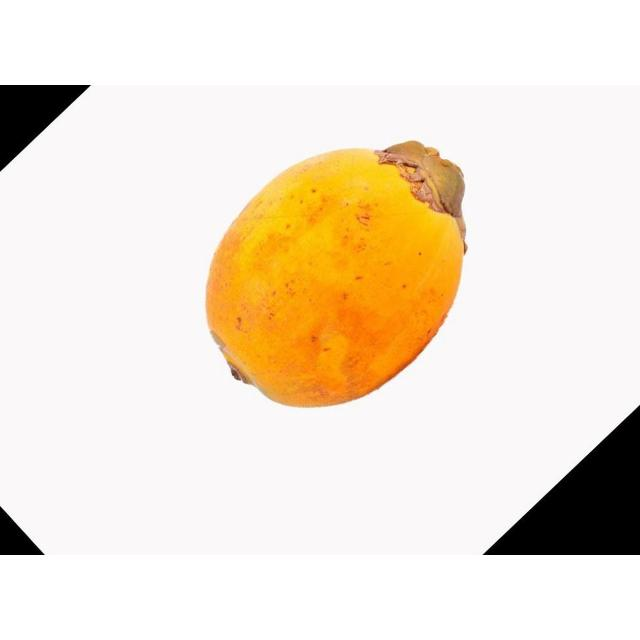good: (204, 142, 468, 411)
